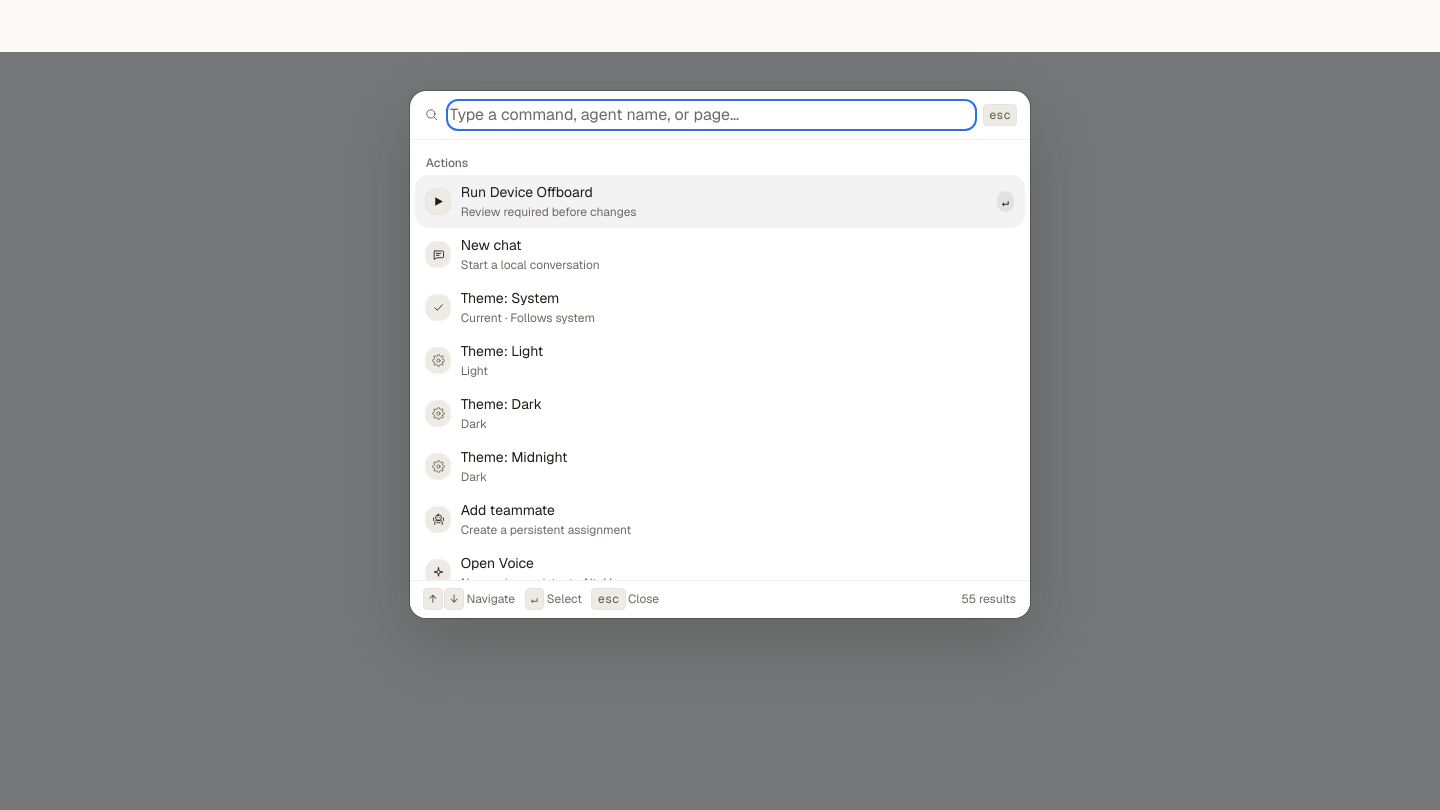
Scenario: loads workspaces once per open and hides stale conversations while search is pending
Type "message-only match" into the dropdown named "Search commands, agents, or pages". click: (711, 114)
box: x1=450 y1=102 x2=973 y2=126
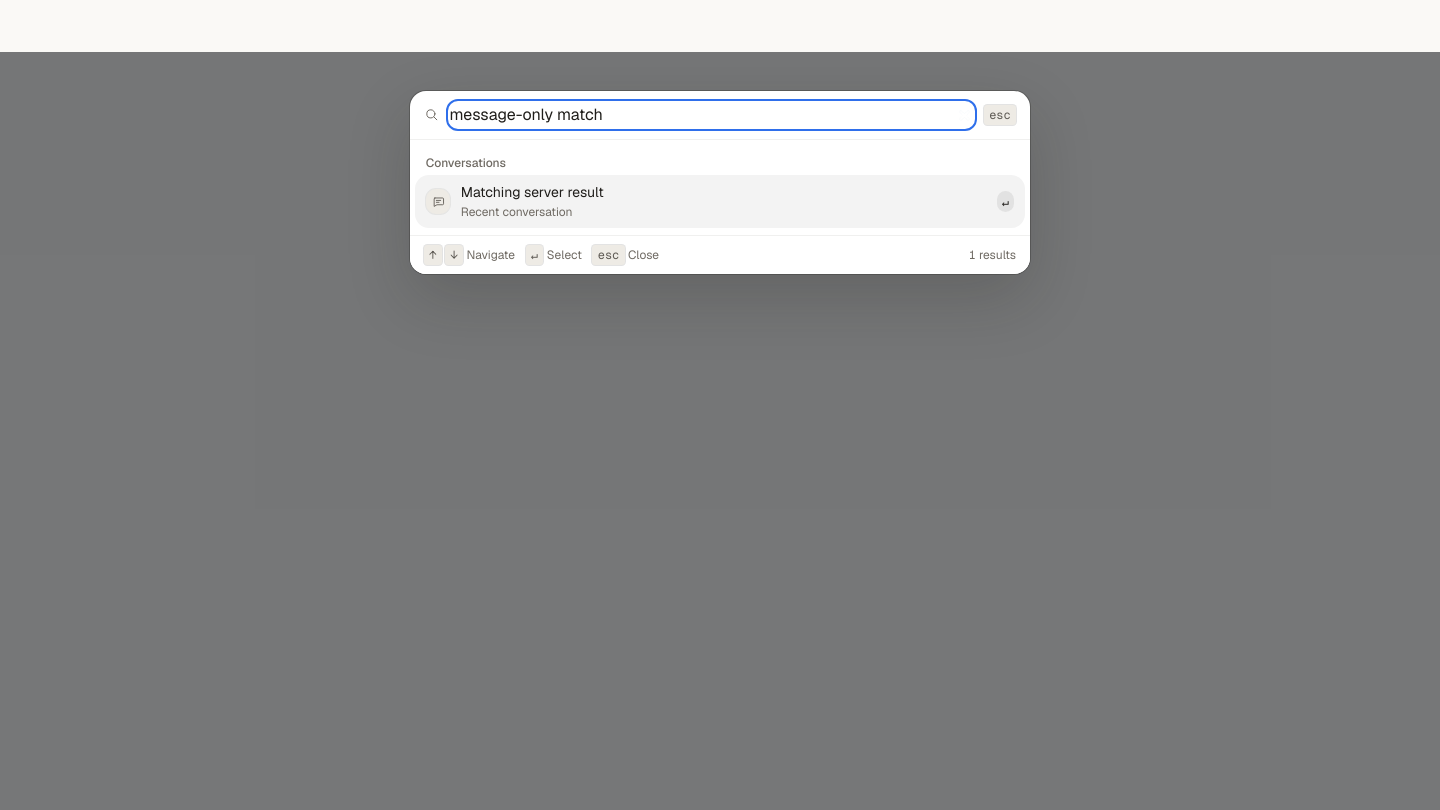
Check: the option "Unrelated recent conversation" is not shown
Check: the option "Matching server result Recent conversation ↵" is shown, box x1=415 y1=175 x2=1025 y2=228
